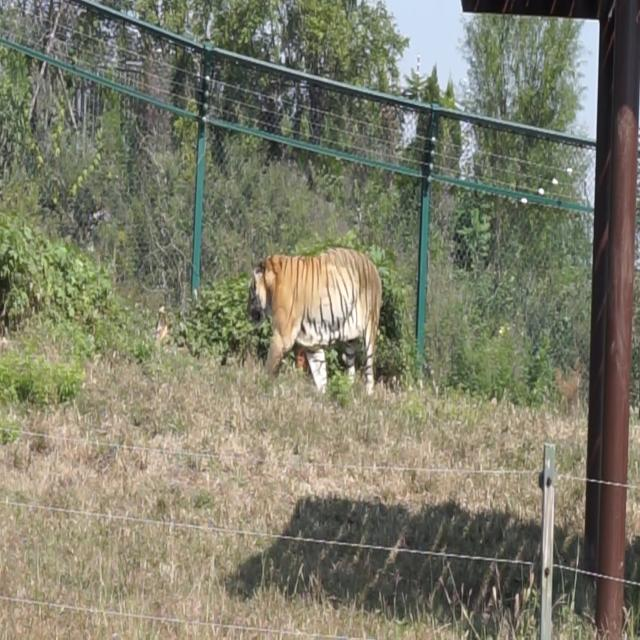Tiger: (243, 242, 394, 395)
